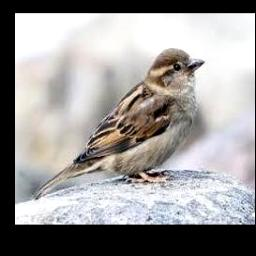Sparrow: (32, 48, 203, 200)
